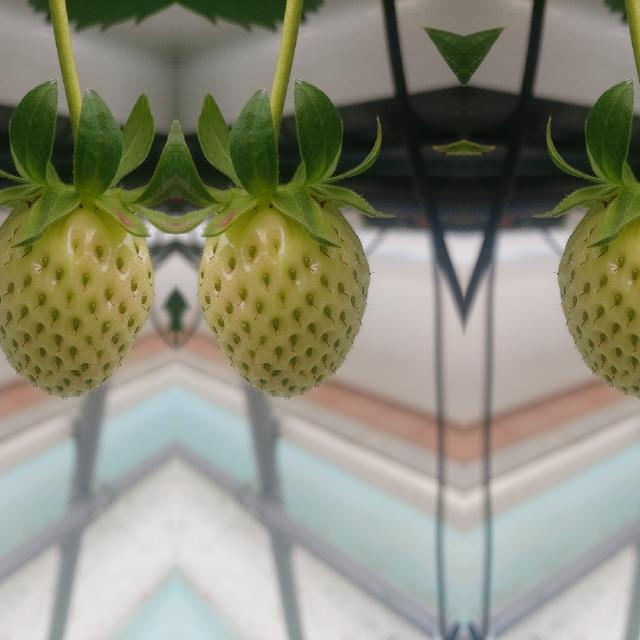Health_25: (195, 207, 368, 397), (0, 207, 154, 397), (557, 207, 640, 397)
